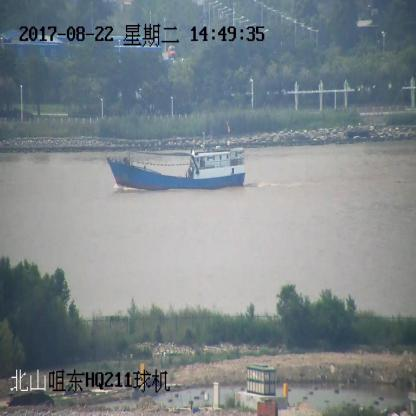Fishing Boat: (110, 124, 246, 192)
